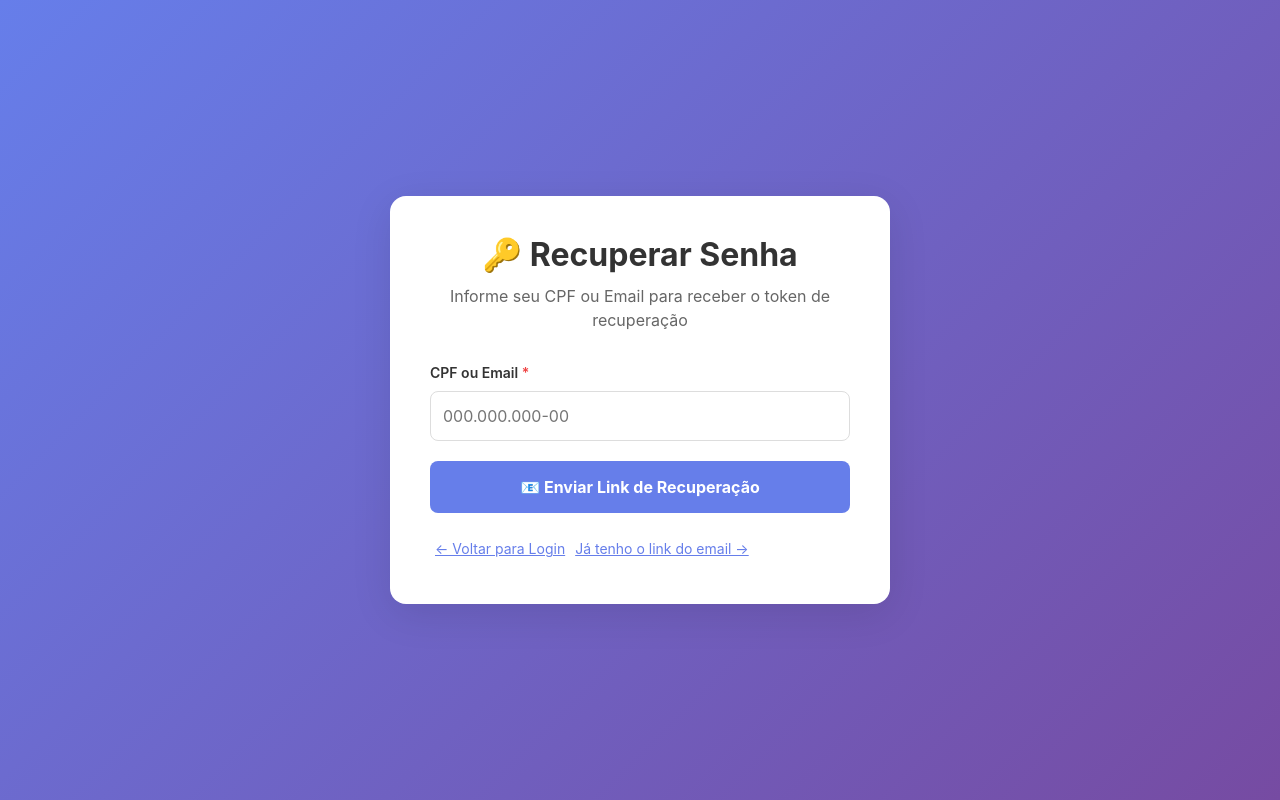
ForgotPassword (público) › exibe mensagem de sucesso e desabilita o formulário
The width and height of the screenshot is (1280, 800).
Type "123.456.789-09" into the field with placeholder "000.000.000-00" at x=640, y=416, box [430,391,850,441]
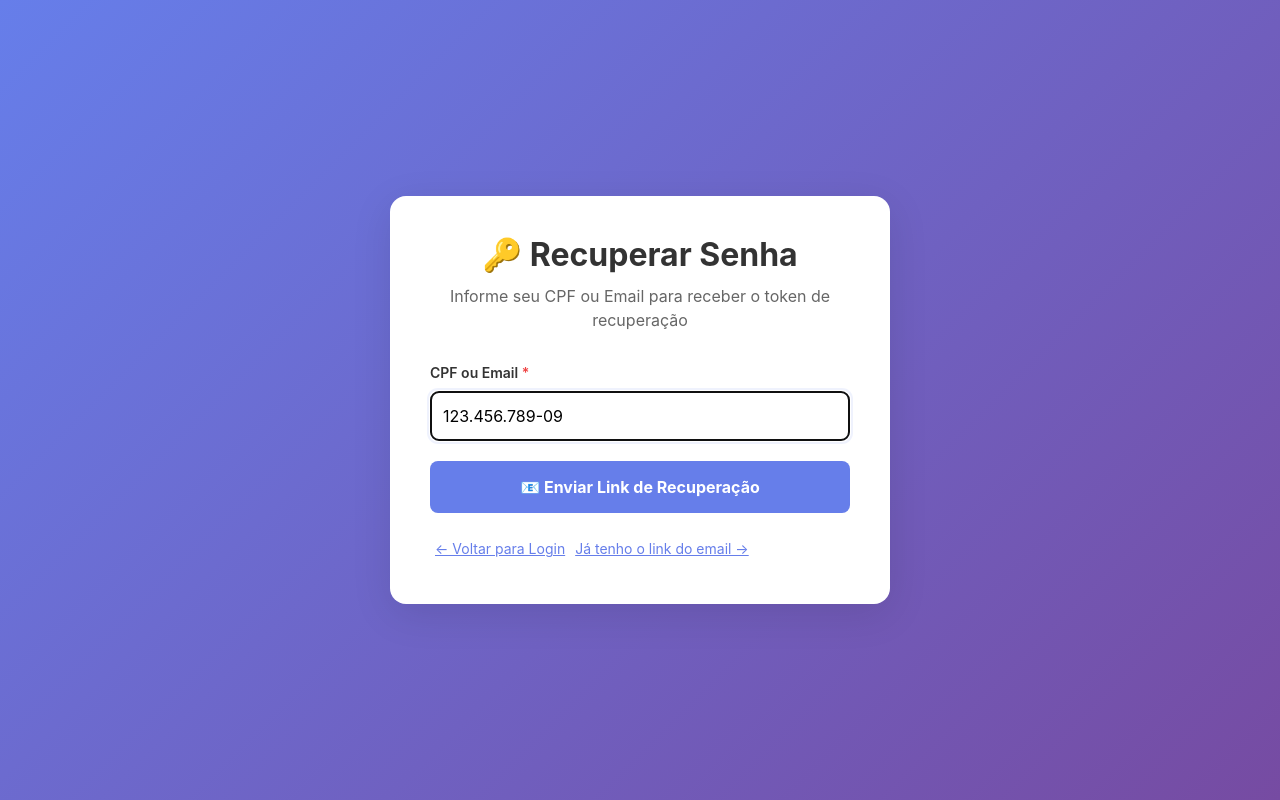
Click the button "📧 Enviar Link de Recuperação" at x=640, y=487, box [430,461,850,513]
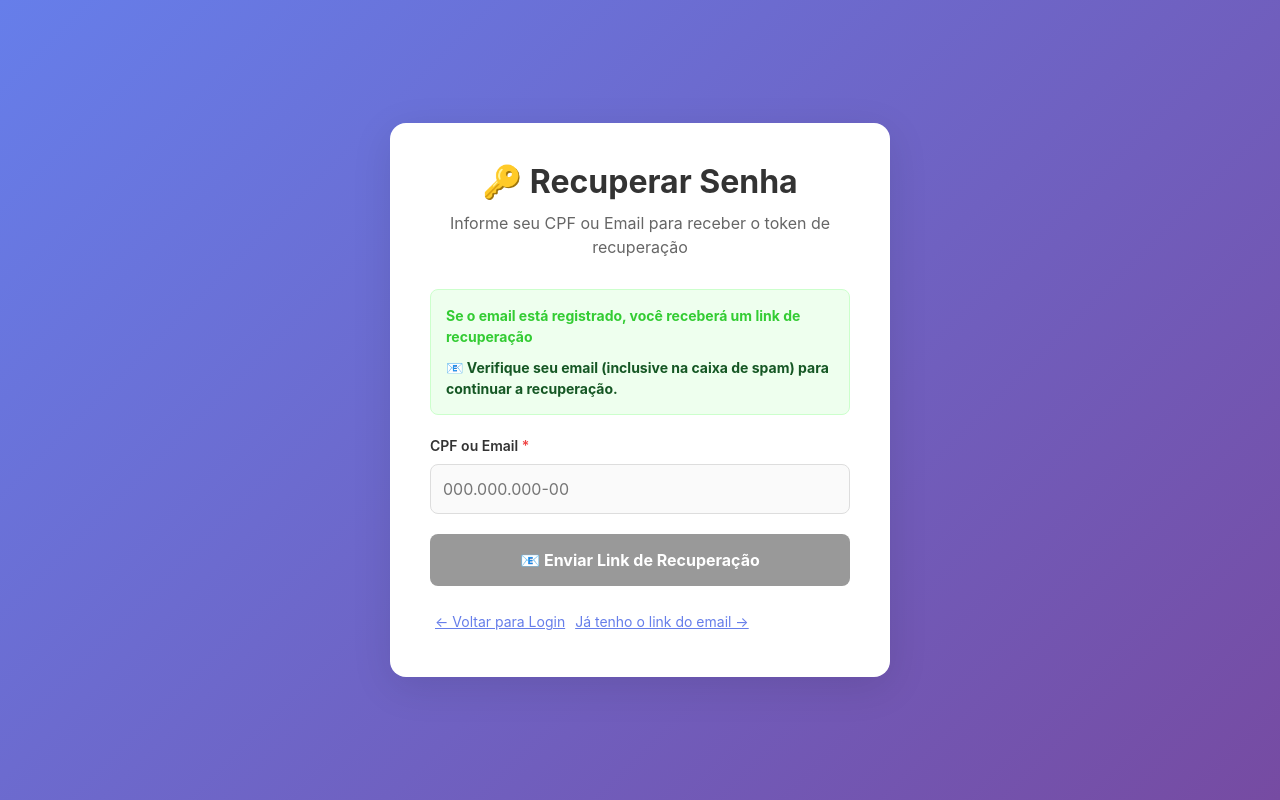
Result: the text "Verifique seu email" is shown at [446,359,829,397]
Result: the field with placeholder "000.000.000-00" is disabled at [430,464,850,514]
